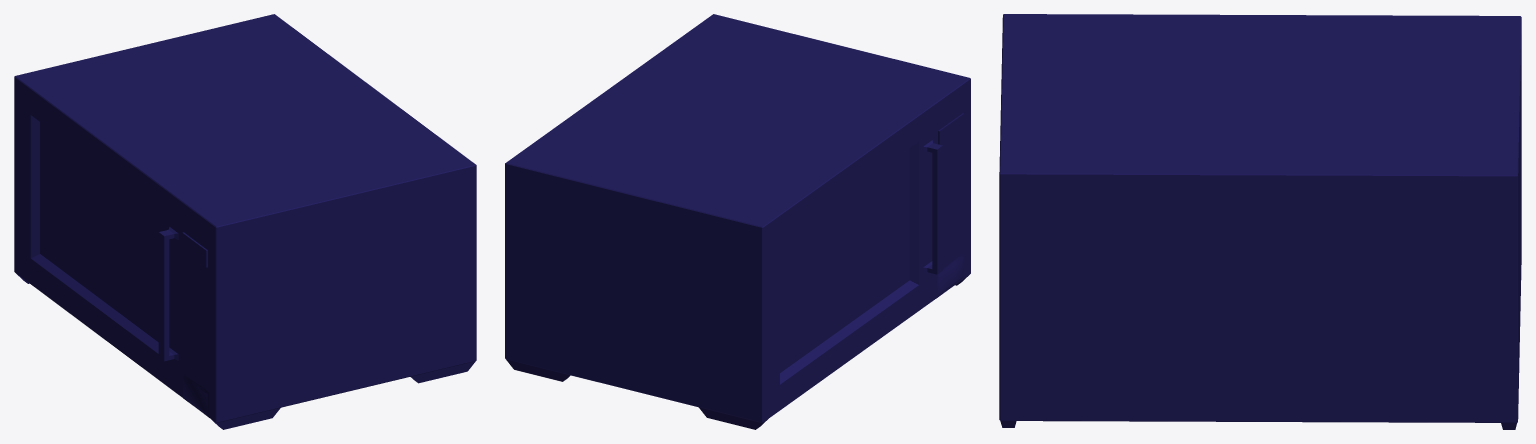
Rendered from Microwave_resized.FBX.
The picture shows the model from 3 angles, left to right: view 1: azimuth 30°, elevation 25°; view 2: azimuth 150°, elevation 25°; view 3: azimuth 270°, elevation 25°; orthographic projection. The views are drawn at different scales.
Parts seen in each view (by area): view 1: microwave machine, microwave glass; view 2: microwave machine, microwave glass; view 3: microwave machine.
Boxes of the visible parts, left/top/right/bottom form: microwave machine: left=14, top=14, right=476, bottom=429; microwave glass: left=40, top=122, right=165, bottom=341; microwave machine: left=505, top=14, right=970, bottom=429; microwave glass: left=780, top=148, right=909, bottom=372; microwave machine: left=999, top=14, right=1521, bottom=429.
Bounding box in the file's own units: 0.5674 × 0.4061 × 0.7402.
